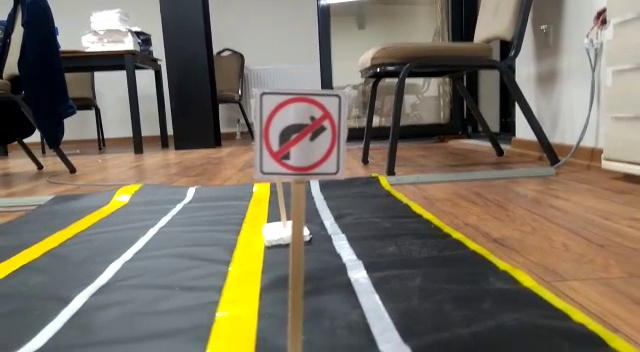saga_donulmez: (254, 87, 340, 176)
